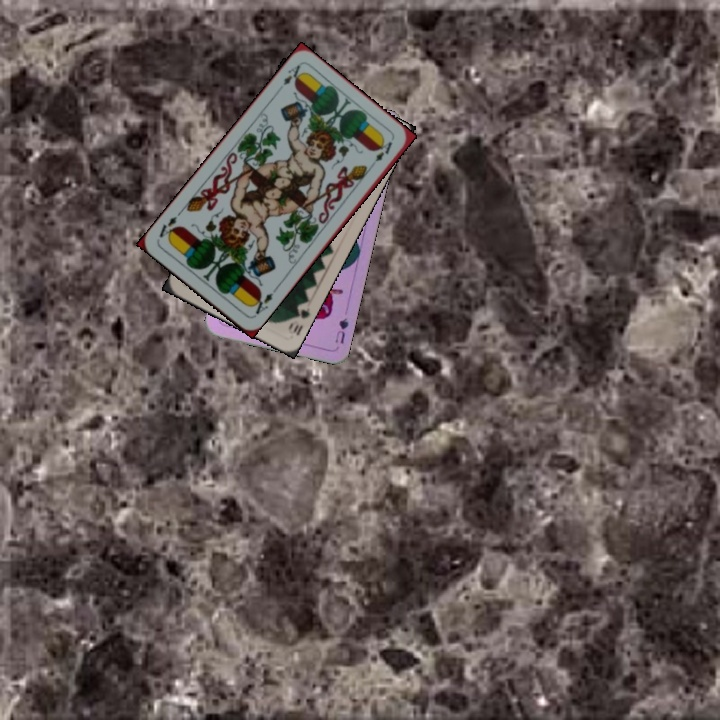EA: (247, 289, 276, 319), (279, 60, 306, 88)
G10: (284, 298, 313, 337)
GU: (331, 314, 351, 346)
